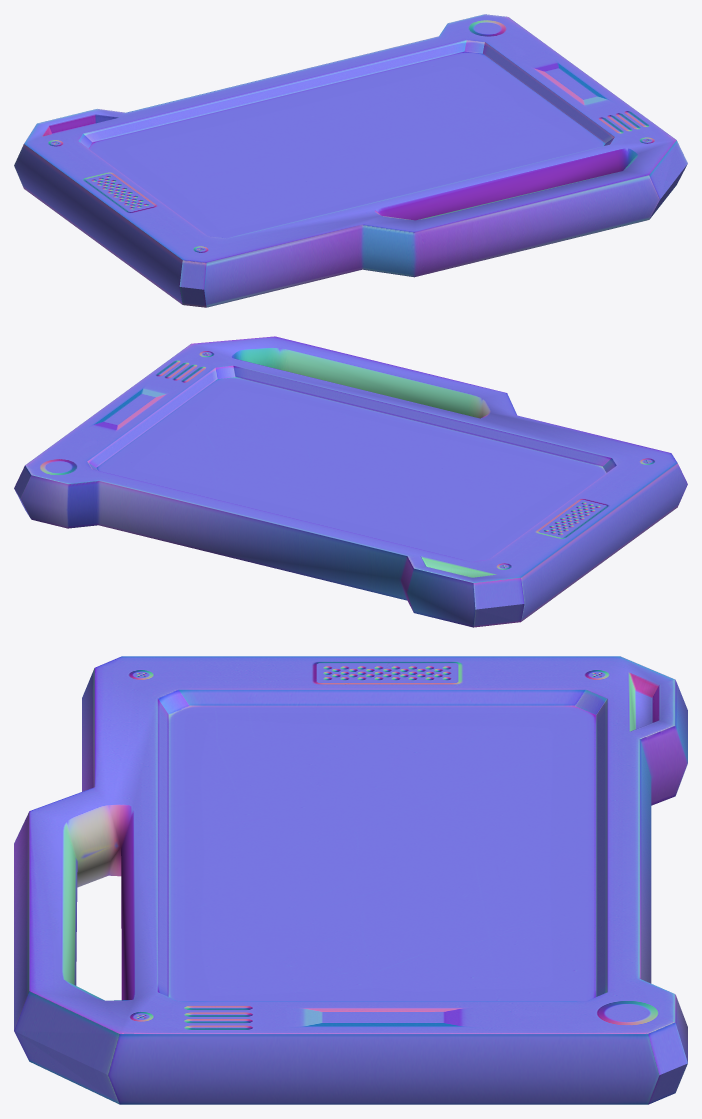
File: tablet.FBX
3 views of the same model, one above another, from view 1: azimuth 30°, elevation 25°; view 2: azimuth 150°, elevation 25°; view 3: azimuth 270°, elevation 25° (orthographic). The views are drawn at different scales.
Parts seen in each view (by area): view 1: tabletLow; view 2: tabletLow; view 3: tabletLow.
Part boxes in pixels (<box>): tabletLow: <box>14,14,687,307</box>; tabletLow: <box>14,336,687,627</box>; tabletLow: <box>14,656,687,1104</box>.
Bounding box in the file's own units: 132 × 11.16 × 96.6.
1 material, 1 textured.
